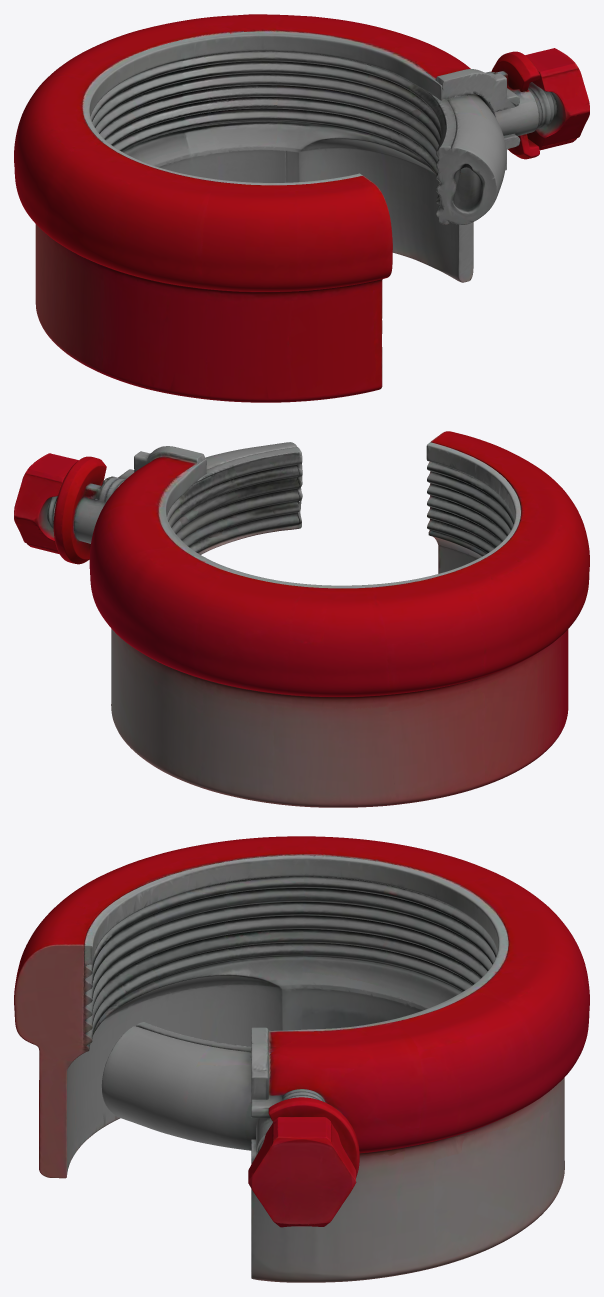
Rendered from UnionDeGolpeFiguraAir-O-Union.glb.
3 views of the same model, one above another, from view 1: azimuth 30°, elevation 25°; view 2: azimuth 150°, elevation 25°; view 3: azimuth 270°, elevation 25° (orthographic). The views are drawn at different scales.
Parts seen in each view (by area): view 1: tripo_node_2daca8cc-99fe-4c43-bbb5-ef5352e0c233; view 2: tripo_node_2daca8cc-99fe-4c43-bbb5-ef5352e0c233; view 3: tripo_node_2daca8cc-99fe-4c43-bbb5-ef5352e0c233.
Boxes of the visible parts, box(x1,y1,x2,y2) form: tripo_node_2daca8cc-99fe-4c43-bbb5-ef5352e0c233: box(14, 14, 589, 402); tripo_node_2daca8cc-99fe-4c43-bbb5-ef5352e0c233: box(14, 431, 589, 807); tripo_node_2daca8cc-99fe-4c43-bbb5-ef5352e0c233: box(14, 836, 589, 1282).
Size of the model in its own units: 0.9796 by 0.3792 by 0.816.
1 material, 1 textured.
